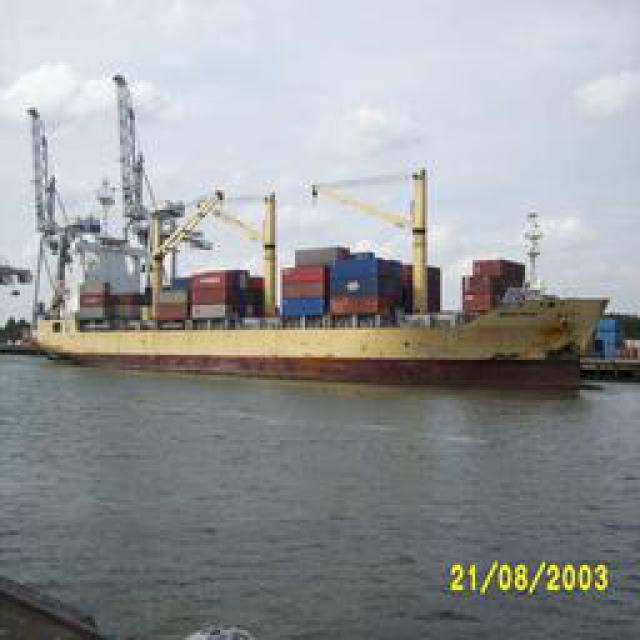Ship: (34, 62, 609, 372)
